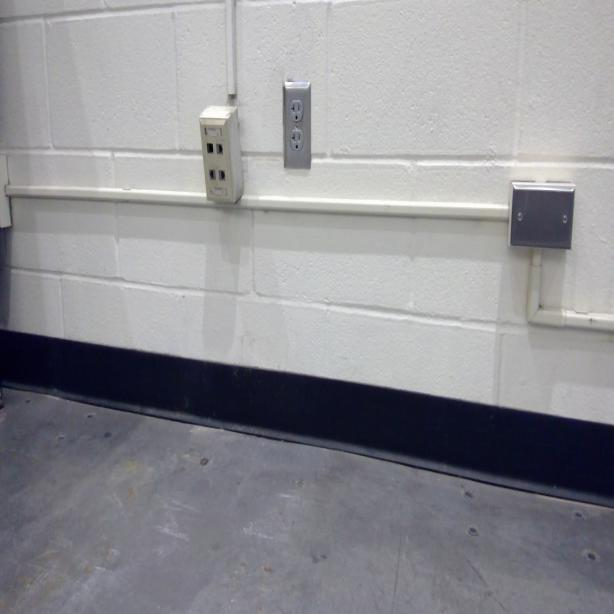typeb: (288, 100, 304, 124), (290, 131, 305, 153)
